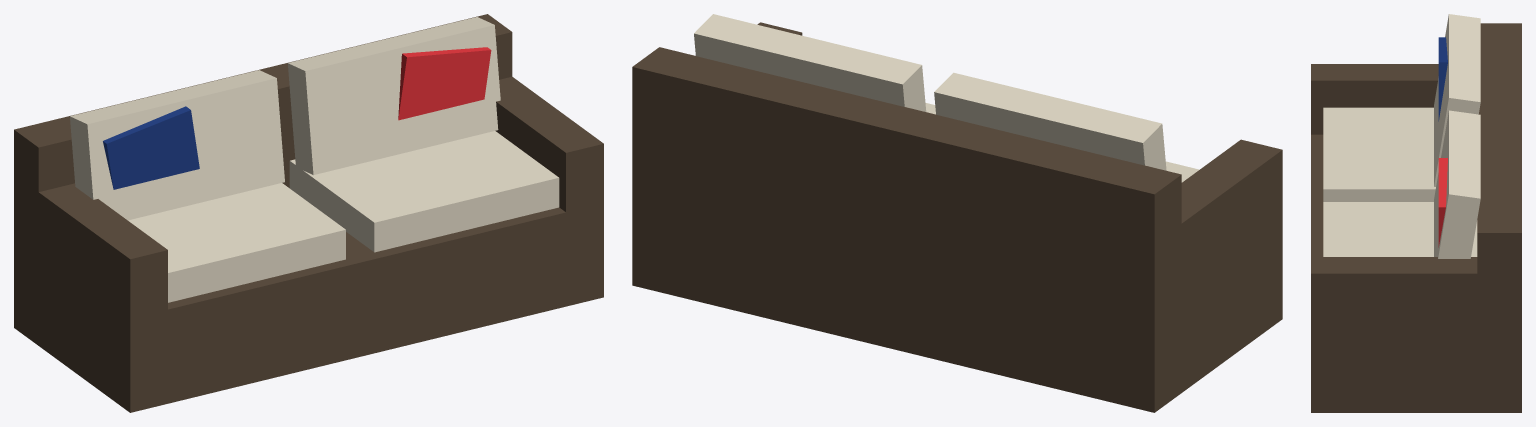
Rendered from terrace_sofa.glb.
The picture shows the model from 3 angles, left to right: view 1: azimuth 30°, elevation 25°; view 2: azimuth 150°, elevation 25°; view 3: azimuth 270°, elevation 25°; orthographic projection. The views are drawn at different scales.
Parts seen in each view (by area): view 1: terrace_sofa; view 2: terrace_sofa; view 3: terrace_sofa.
Part boxes in pixels (bbox=[...]): terrace_sofa: bbox=[14, 14, 603, 412]; terrace_sofa: bbox=[632, 14, 1282, 412]; terrace_sofa: bbox=[1311, 14, 1521, 412].
Bounding box in the file's own units: 2 × 0.9075 × 0.85.
